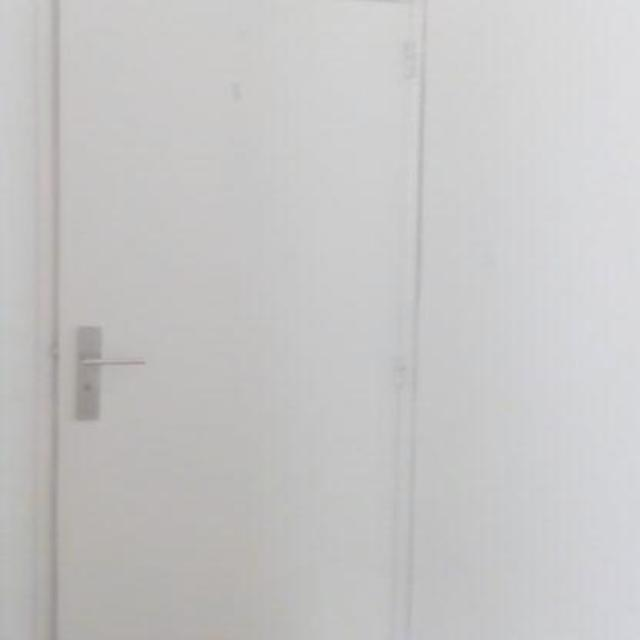door: (49, 0, 421, 638)
